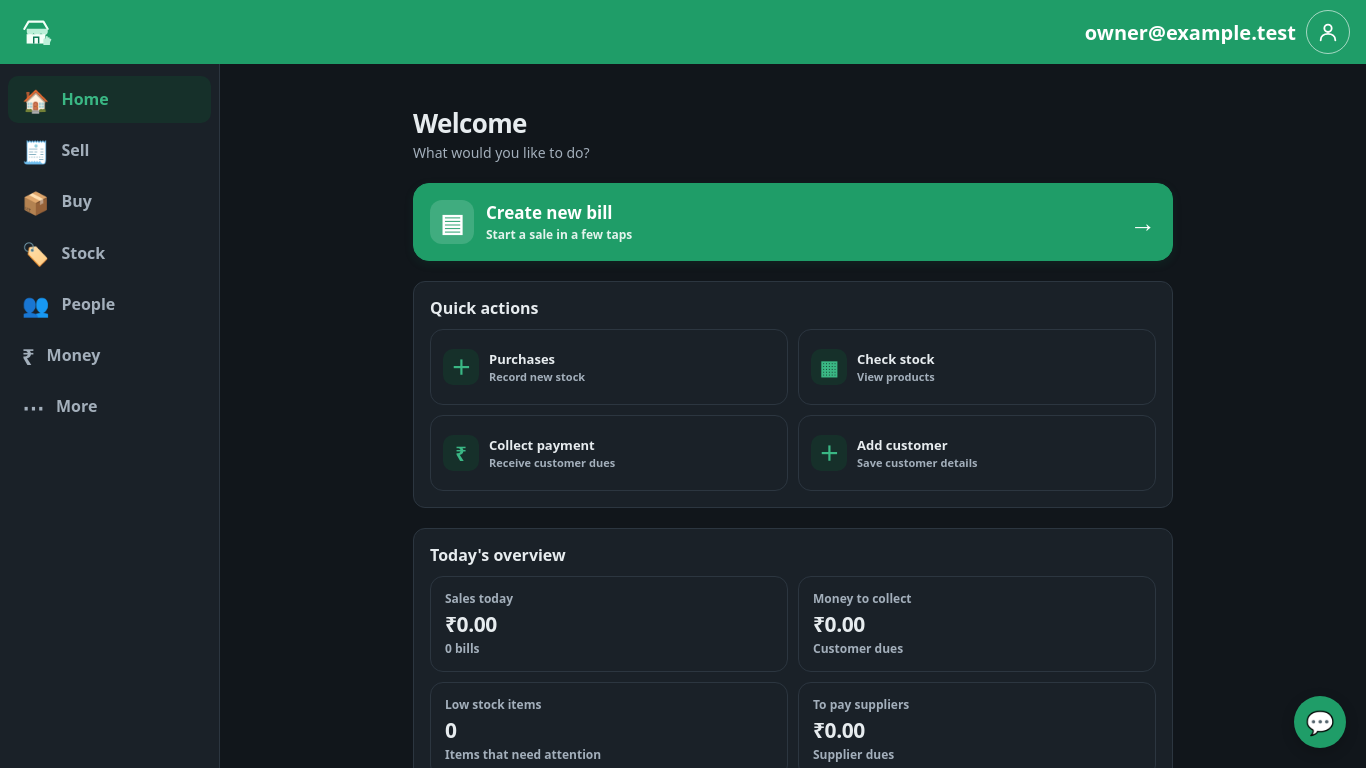
Test: theme toggle (H4) › restores a saved dark preference on load
Click the button named "Profile menu" at coordinates (1328, 32), box [1306, 10, 1350, 54]
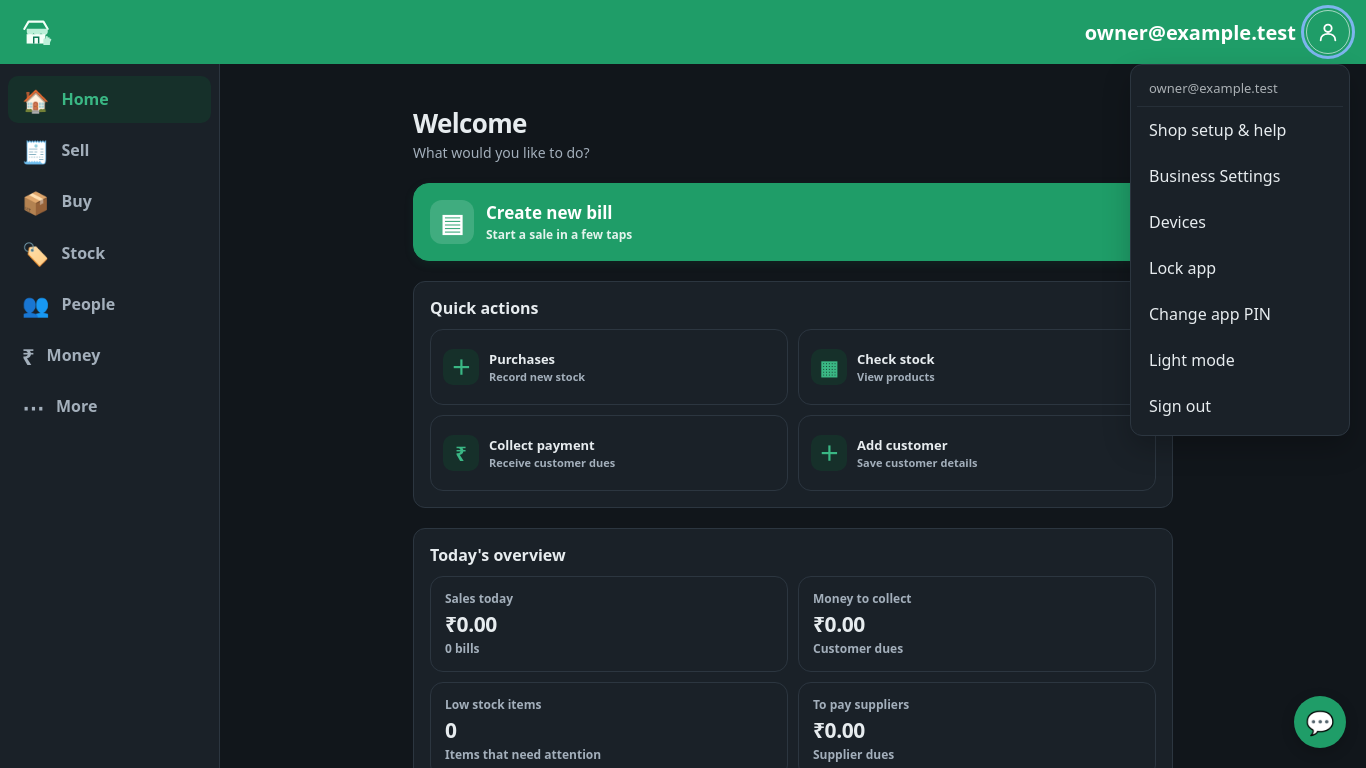
Check: the menu item "Light mode" is shown, box [1137, 339, 1343, 383]
